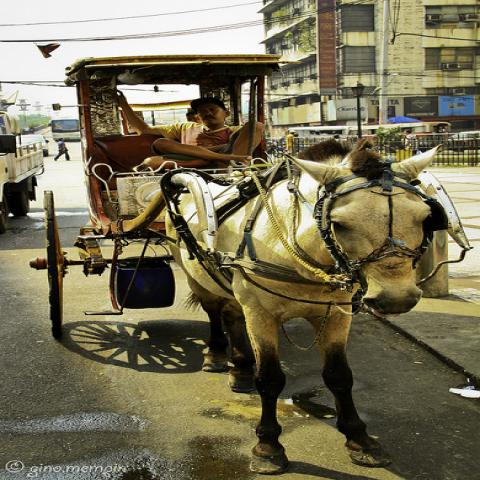bus: (285, 120, 453, 137), (47, 119, 81, 141)
car: (444, 129, 480, 151), (16, 135, 50, 157)
truck: (2, 112, 46, 234)
